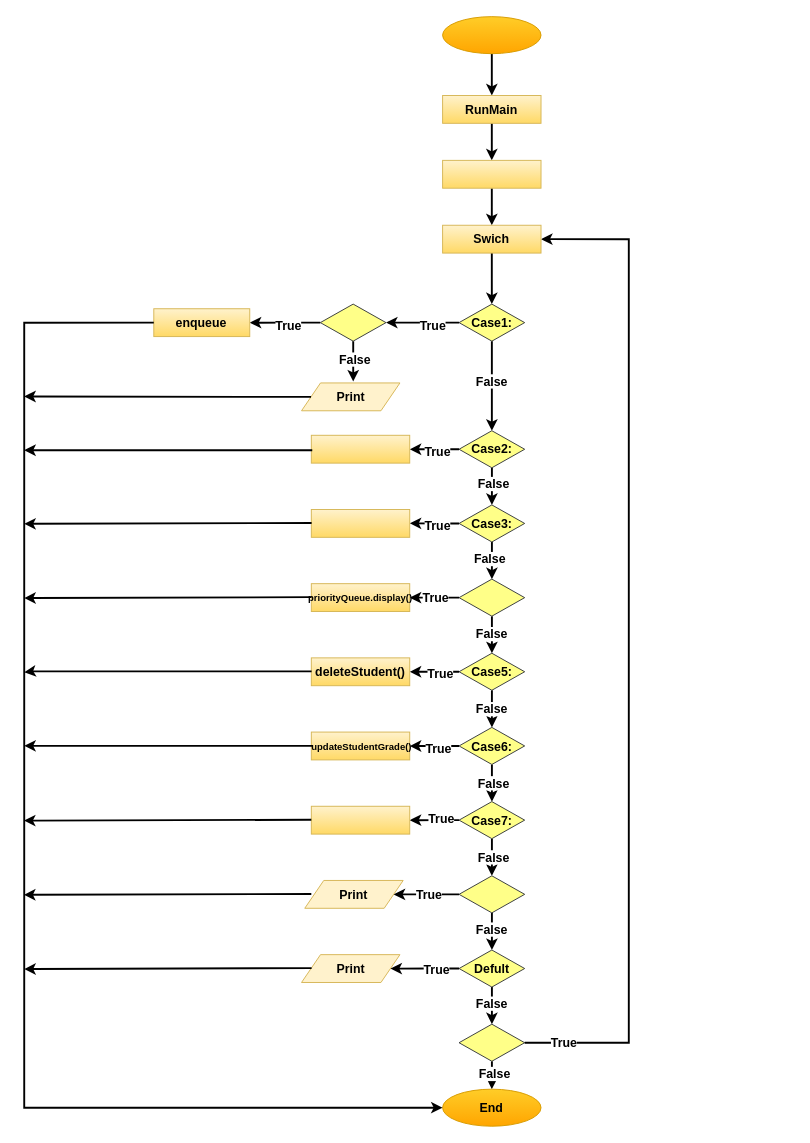
The diagram is 810 pixels wide and 1143 high, and some of its shapes have lost their labels. The shapes that lost their labels are listed below. From the top down, each one's centre as x and y in pixels, then its label:
At (491,35): "Start".
At (491,173): "Do".
At (352,322): "IsEmpty".
At (360,448): "Process_Registration()".
At (360,523): "Display_Registration()".
At (491,597): "Case4:".
At (360,819): "searchStudent()".
At (491,894): "Case8:".
At (491,1042): "While".
